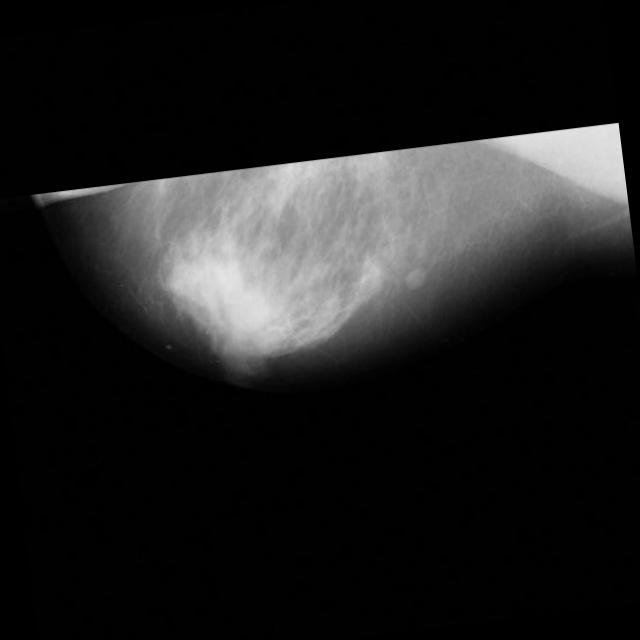ASYM: (286, 148, 324, 186)
